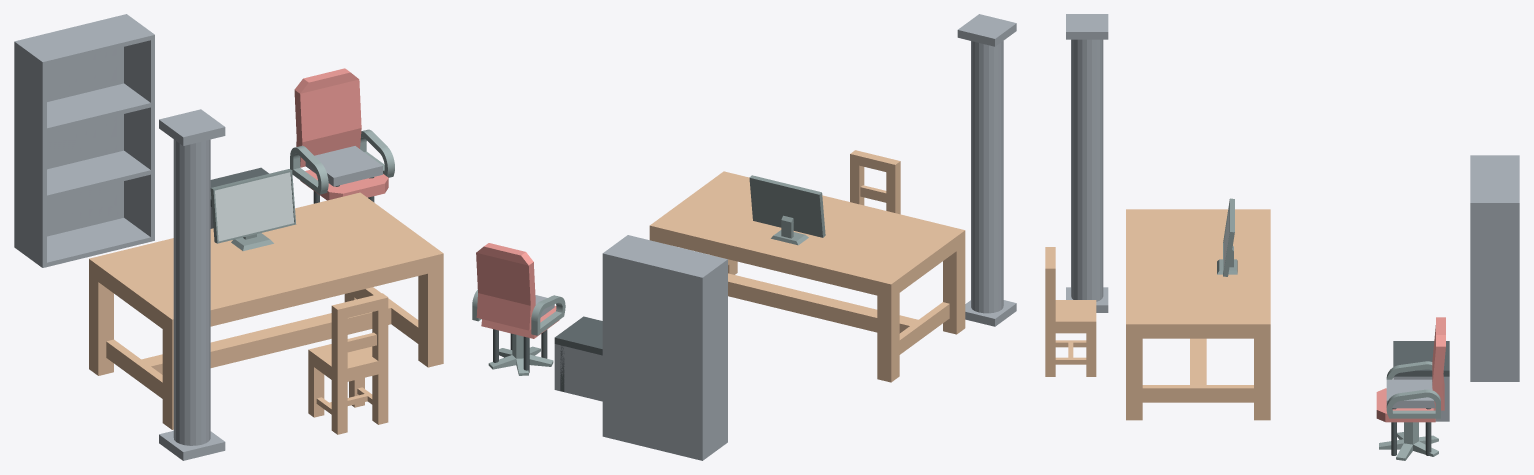
3 views of the same model, side by side, from view 1: azimuth 30°, elevation 25°; view 2: azimuth 150°, elevation 25°; view 3: azimuth 270°, elevation 25° (orthographic). The views are drawn at different scales.
Parts seen in each view (by area): view 1: table_green__table(Clone), column_cyan__column_cyan shaft, shelf_orange__shelf_orange back, deskchair_black__chair, chair_cyan__chair(Clone), shelf_orange__shelf_orange side_l, monitor_gray__computerScreen(Clone), shelf_orange__shelf_orange side_r, shelf_orange__shelf_orange board3, shelf_orange__shelf_orange board2, shelf_orange__shelf_orange board1, shelf_orange__shelf_orange board0 (+4 smaller); view 2: table_green__table(Clone), shelf_orange__shelf_orange back, column_cyan__column_cyan shaft, deskchair_black__chair, shelf_orange__shelf_orange side_l, monitor_gray__computerScreen(Clone), crate_red__crate_red shell, shelf_orange__shelf_orange board3, chair_cyan__chair(Clone), column_cyan__column_cyan capital, crate_red__crate_red lid, deskchair_black__chairDesk(Clone) (+2 smaller); view 3: table_green__table(Clone), shelf_orange__shelf_orange side_r, column_cyan__column_cyan shaft, chair_cyan__chair(Clone), deskchair_black__chair, shelf_orange__shelf_orange board3, crate_red__crate_red lid, column_cyan__column_cyan capital, stool_purple__stool_purple seat, deskchair_black__chairDesk(Clone), monitor_gray__computerScreen(Clone), crate_red__crate_red shell.
Part boxes in pixels (x1,y1,x2,y2): table_green__table(Clone): (89, 192, 443, 429); column_cyan__column_cyan shaft: (173, 139, 210, 445); shelf_orange__shelf_orange back: (19, 15, 123, 236); deskchair_black__chair: (290, 68, 394, 200); chair_cyan__chair(Clone): (308, 293, 388, 434); shelf_orange__shelf_orange side_l: (14, 40, 46, 267); monitor_gray__computerScreen(Clone): (210, 169, 296, 251); shelf_orange__shelf_orange side_r: (123, 14, 154, 241); shelf_orange__shelf_orange board3: (20, 16, 150, 65); shelf_orange__shelf_orange board2: (47, 83, 150, 132); shelf_orange__shelf_orange board1: (47, 150, 150, 199); shelf_orange__shelf_orange board0: (47, 218, 150, 266); table_green__table(Clone): (649, 171, 965, 382); shelf_orange__shelf_orange back: (606, 253, 699, 459); column_cyan__column_cyan shaft: (971, 41, 1003, 313); deskchair_black__chair: (472, 243, 565, 338); shelf_orange__shelf_orange side_l: (699, 258, 727, 460); monitor_gray__computerScreen(Clone): (749, 175, 825, 245); crate_red__crate_red shell: (554, 344, 602, 401); shelf_orange__shelf_orange board3: (608, 236, 723, 275); chair_cyan__chair(Clone): (850, 150, 900, 214); column_cyan__column_cyan capital: (957, 14, 1016, 46); crate_red__crate_red lid: (554, 316, 602, 355); deskchair_black__chairDesk(Clone): (488, 334, 553, 375); table_green__table(Clone): (1126, 209, 1270, 420); shelf_orange__shelf_orange side_r: (1470, 201, 1519, 381); column_cyan__column_cyan shaft: (1071, 39, 1103, 301); chair_cyan__chair(Clone): (1045, 247, 1096, 376); deskchair_black__chair: (1376, 317, 1445, 422); shelf_orange__shelf_orange board3: (1470, 157, 1516, 201); crate_red__crate_red lid: (1393, 341, 1449, 376); column_cyan__column_cyan capital: (1066, 14, 1108, 39); stool_purple__stool_purple seat: (1386, 379, 1435, 408); deskchair_black__chairDesk(Clone): (1379, 422, 1438, 460); monitor_gray__computerScreen(Clone): (1217, 198, 1237, 276); crate_red__crate_red shell: (1393, 376, 1449, 421).
Bounding box in the file's own units: 2.82 × 2.2 × 3.36.
